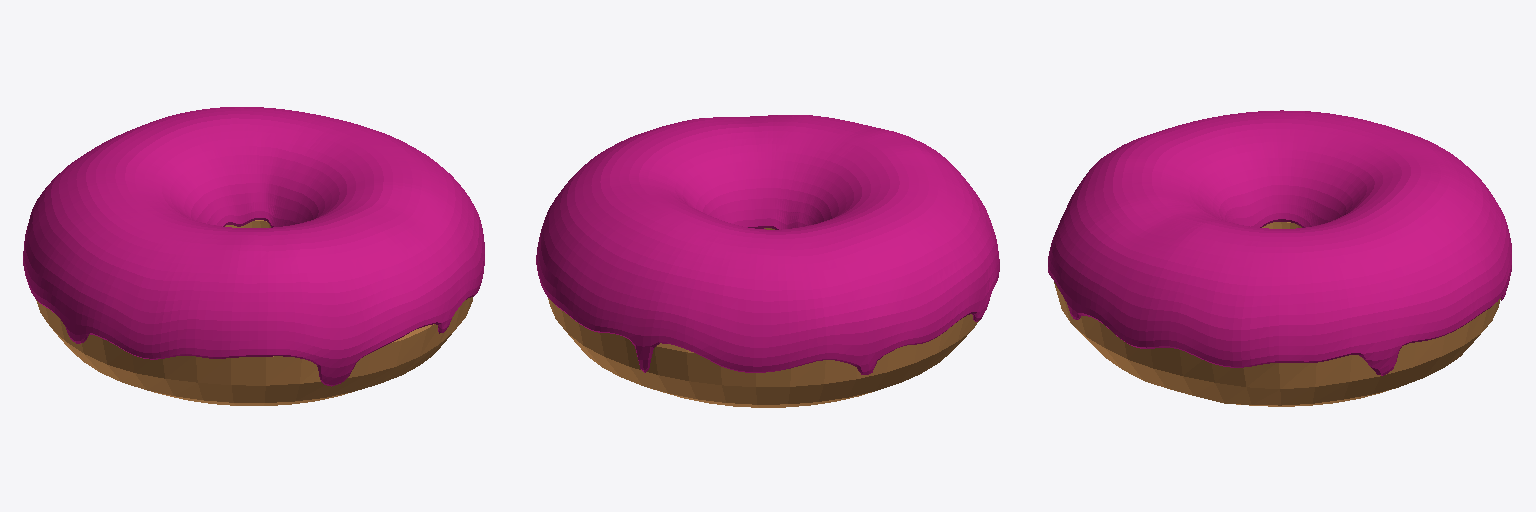
Rendered from donut_2.obj.
3 renders of one model, left to right at view 1: azimuth 30°, elevation 25°; view 2: azimuth 150°, elevation 25°; view 3: azimuth 270°, elevation 25°, orthographic.
Parts seen in each view (by area): view 1: Icing, Body; view 2: Icing, Body; view 3: Icing, Body.
Boxes of the visible parts, box(x1,y1,x2,y2) form: Icing: box(23, 107, 484, 386); Body: box(36, 220, 472, 405); Icing: box(536, 115, 999, 374); Body: box(548, 228, 979, 407); Icing: box(1048, 110, 1511, 375); Body: box(1054, 222, 1500, 406).
Bounding box in the file's own units: 3.92 × 1.57 × 3.92.